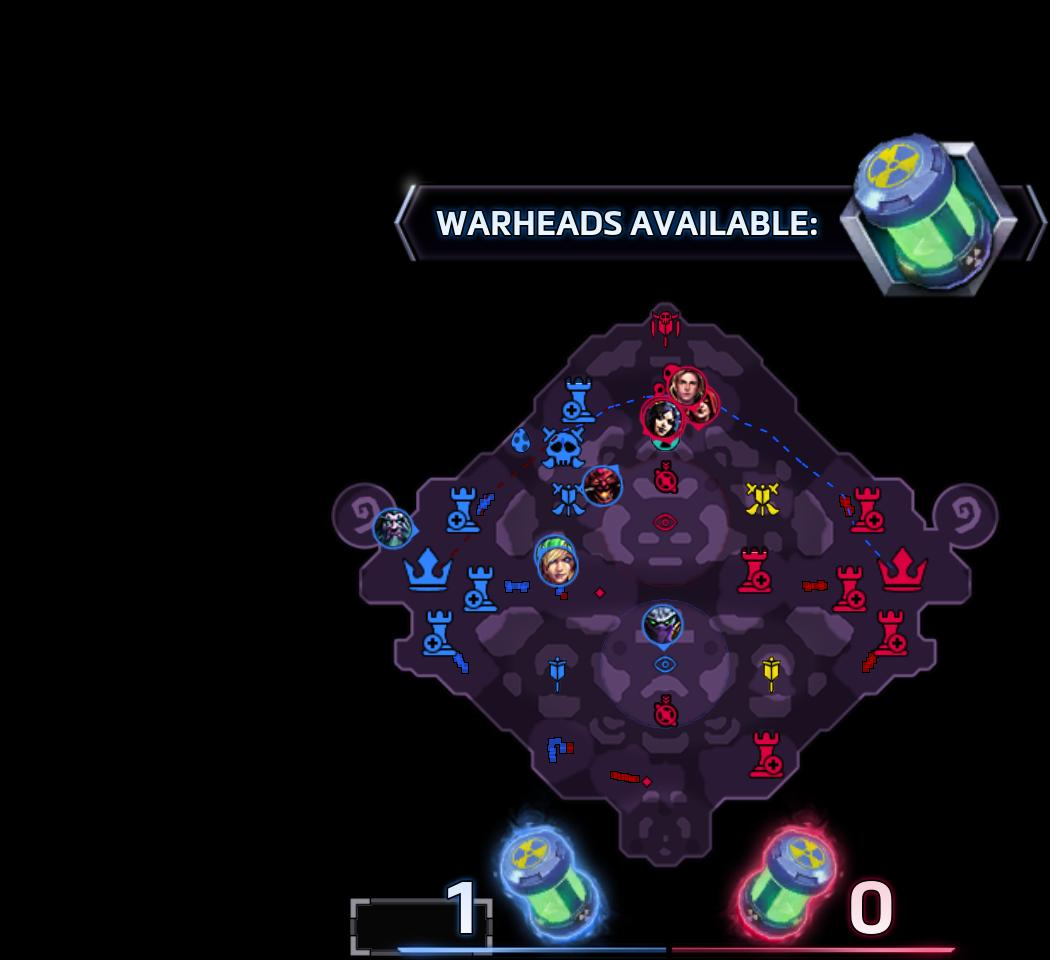blue player: (534, 534, 578, 587), (641, 602, 684, 650), (371, 506, 417, 550), (581, 463, 623, 507)
red player: (658, 365, 714, 427), (644, 399, 683, 442), (682, 385, 721, 427), (668, 367, 705, 407)
